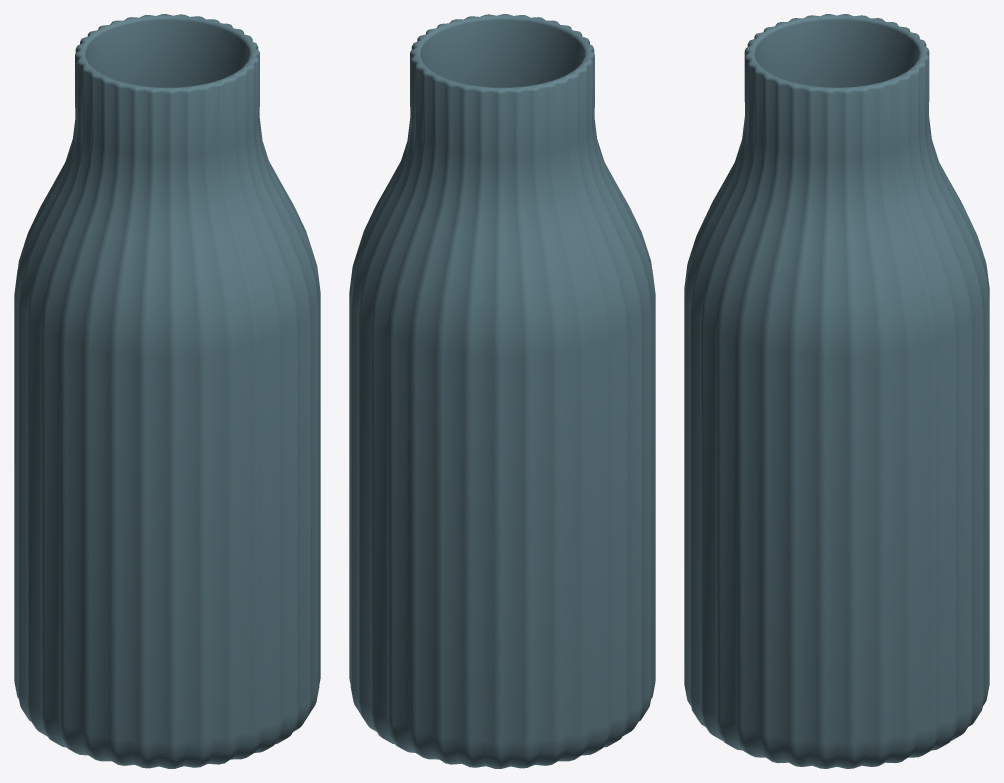
The model's file is VP_Carafe_Flask_LP_LOD1_001.FBX.
3 views of the same model, side by side, from view 1: azimuth 30°, elevation 25°; view 2: azimuth 150°, elevation 25°; view 3: azimuth 270°, elevation 25° (orthographic).
Parts seen in each view (by area): view 1: VP_Carafe_Flask_LP_LOD1_001; view 2: VP_Carafe_Flask_LP_LOD1_001; view 3: VP_Carafe_Flask_LP_LOD1_001.
Part boxes in pixels (x1,y1,x2,y2): VP_Carafe_Flask_LP_LOD1_001: (14, 14, 320, 768); VP_Carafe_Flask_LP_LOD1_001: (349, 14, 655, 768); VP_Carafe_Flask_LP_LOD1_001: (684, 14, 989, 768).
Size of what is drawn, in the model's own units: 10.31 by 10.31 by 24.75.
